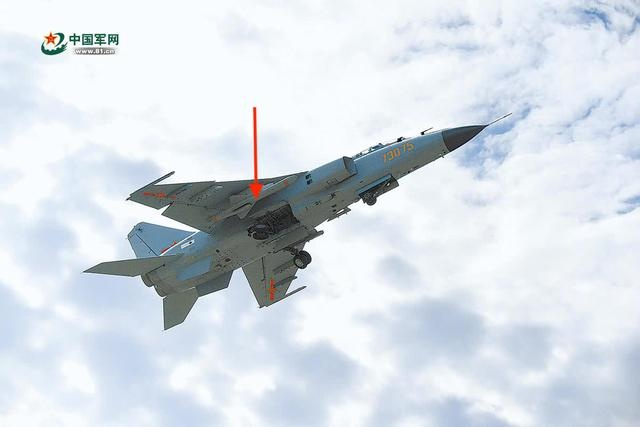airplane: (82, 107, 514, 333)
